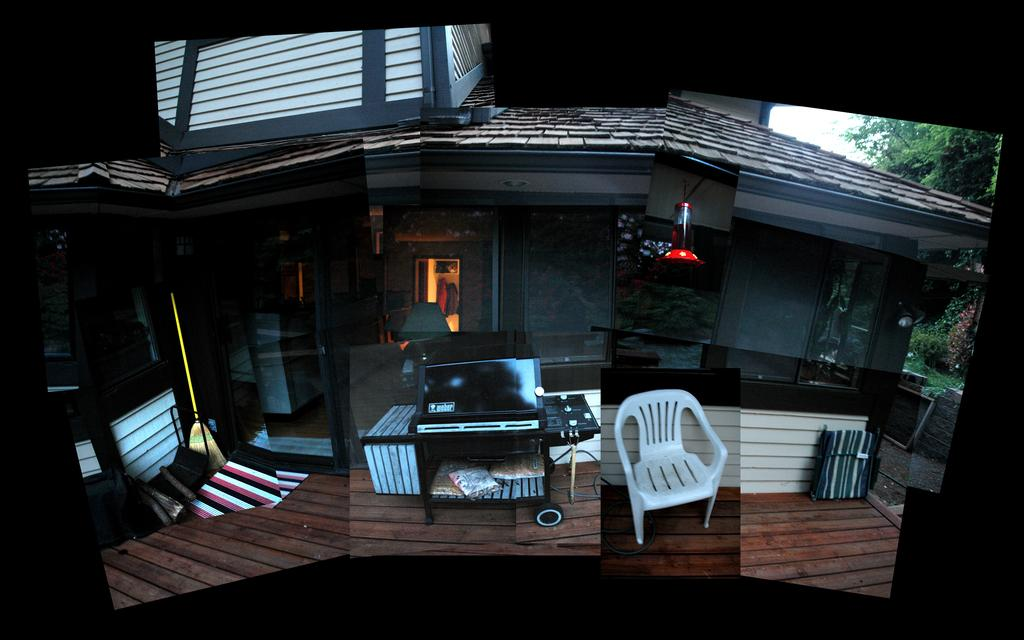Chair: (609, 391, 737, 554)
